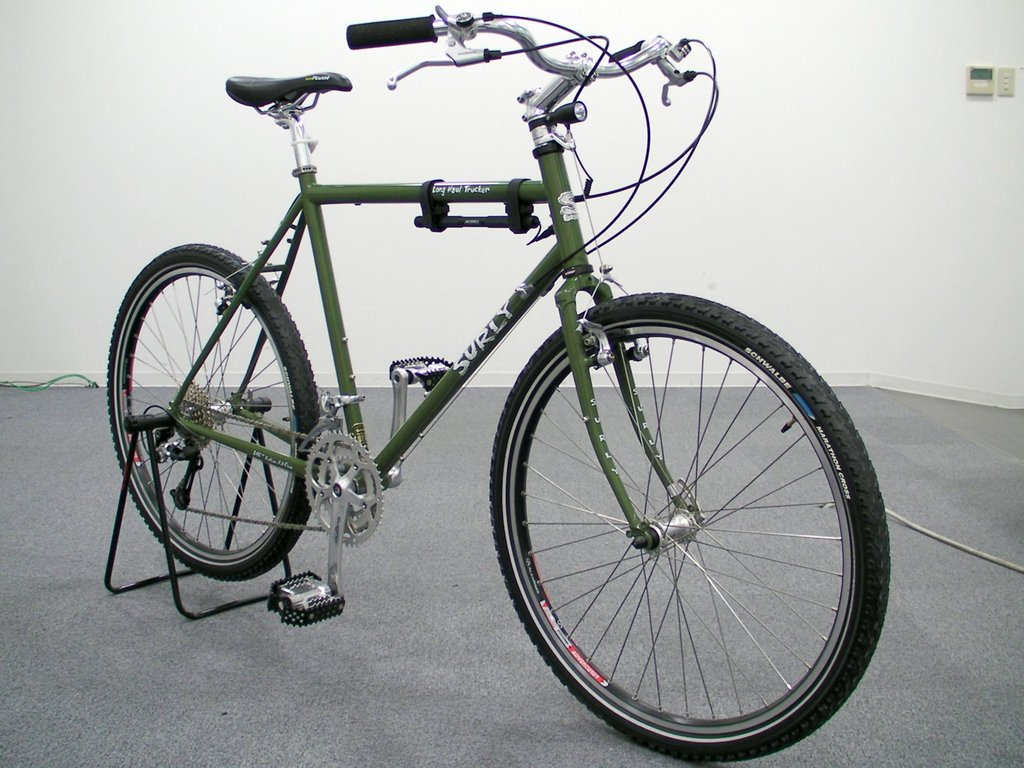Bike: (129, 15, 904, 706)
